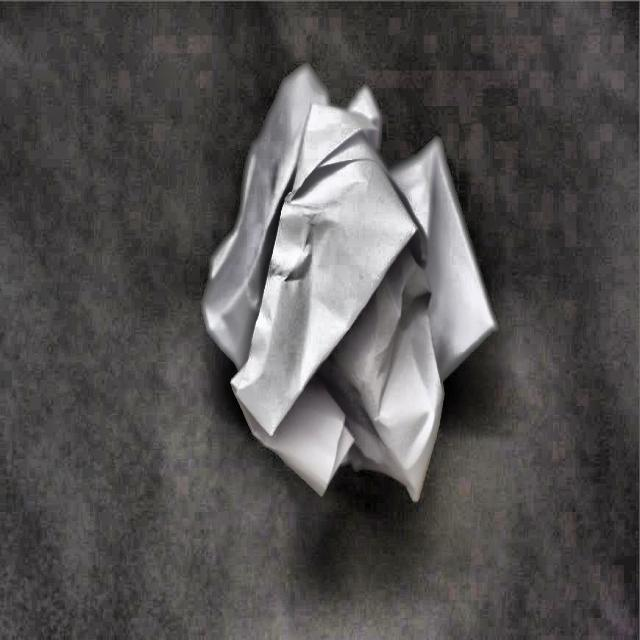Paper: (189, 49, 512, 534)
